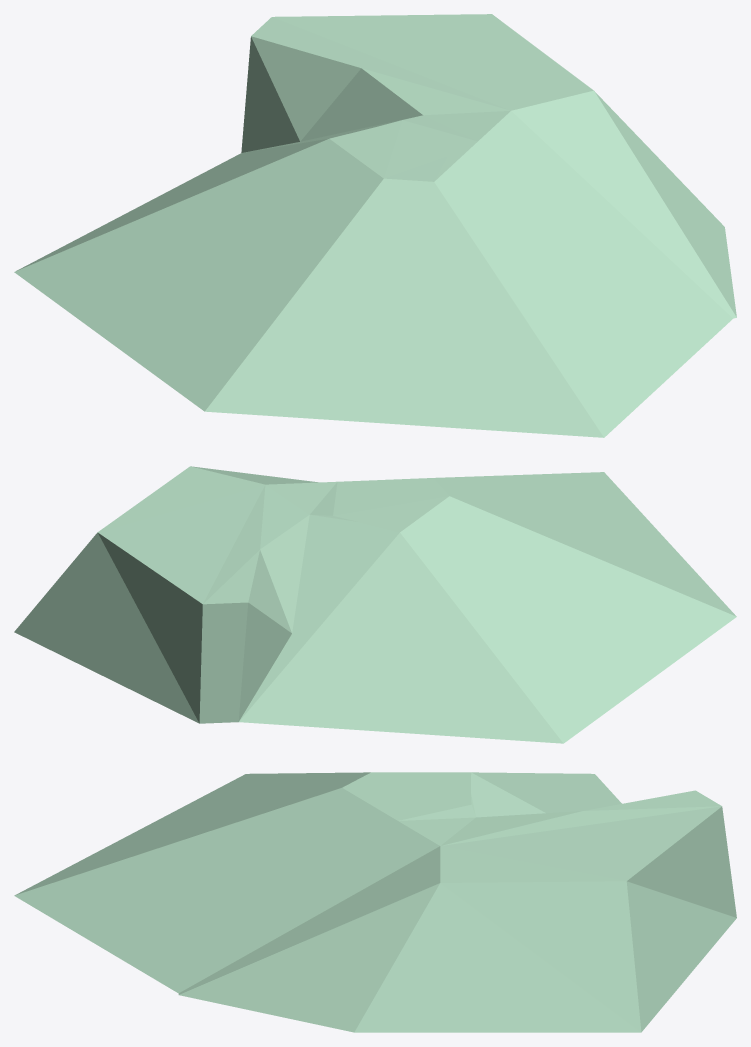
The model's file is terrain_massing2_v01.gltf.
3 renders of one model, top to bottom at view 1: azimuth 30°, elevation 25°; view 2: azimuth 150°, elevation 25°; view 3: azimuth 270°, elevation 25°, orthographic. The views are drawn at different scales.
Parts seen in each view (by area): view 1: massing 1; view 2: massing 1; view 3: massing 1.
Part boxes in pixels (x1,y1,x2,y2): massing 1: (14, 14, 736, 437); massing 1: (14, 466, 736, 743); massing 1: (14, 772, 736, 1032).
Size of what is drawn, in the model's own units: 13.13 by 2.72 by 15.51.
